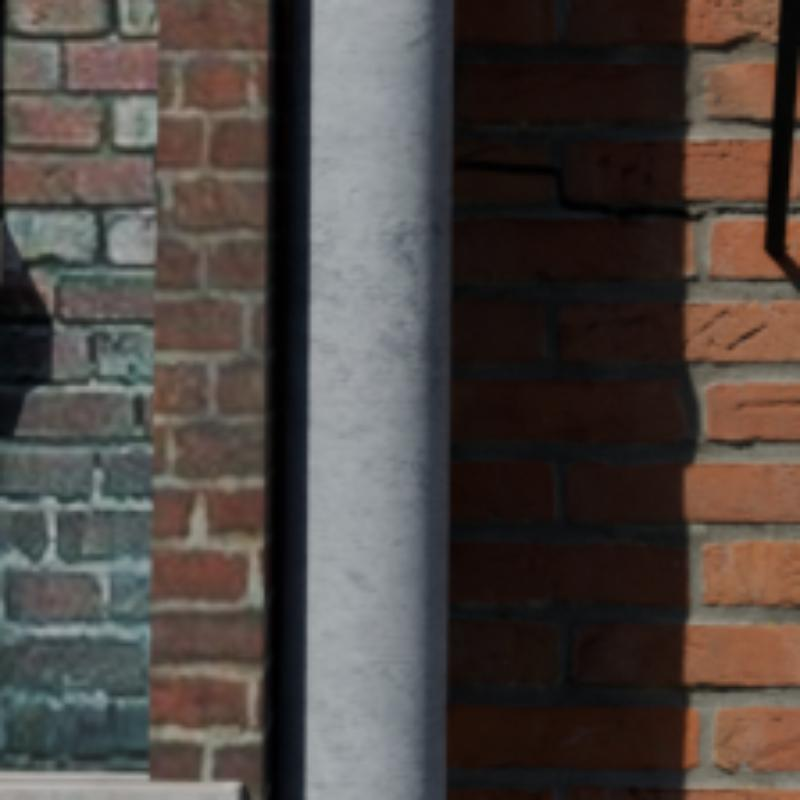pothole: (450, 161, 796, 218)
